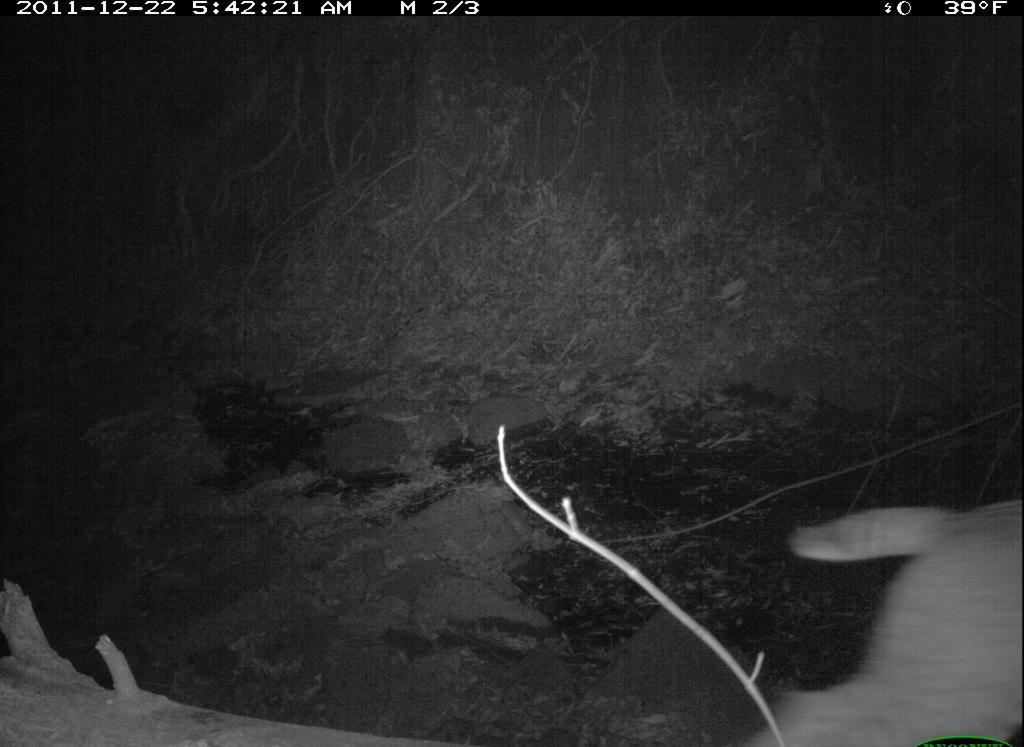bobcat: (678, 451, 1023, 747)
